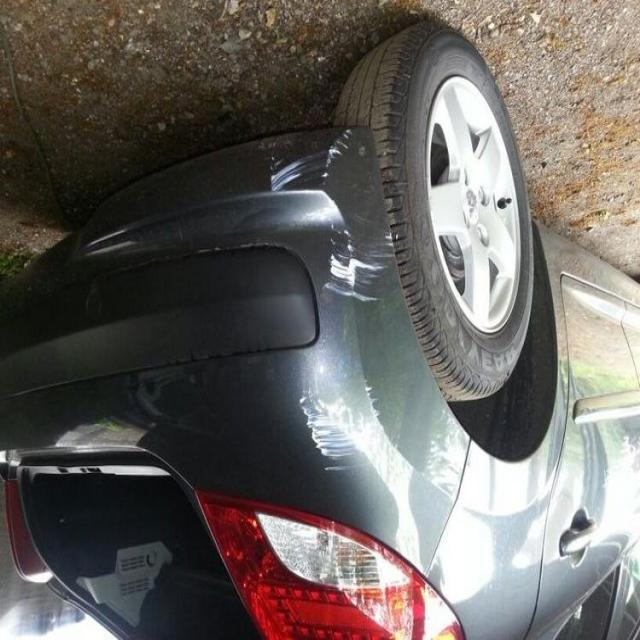scratch: (260, 137, 402, 310), (288, 375, 392, 484)
